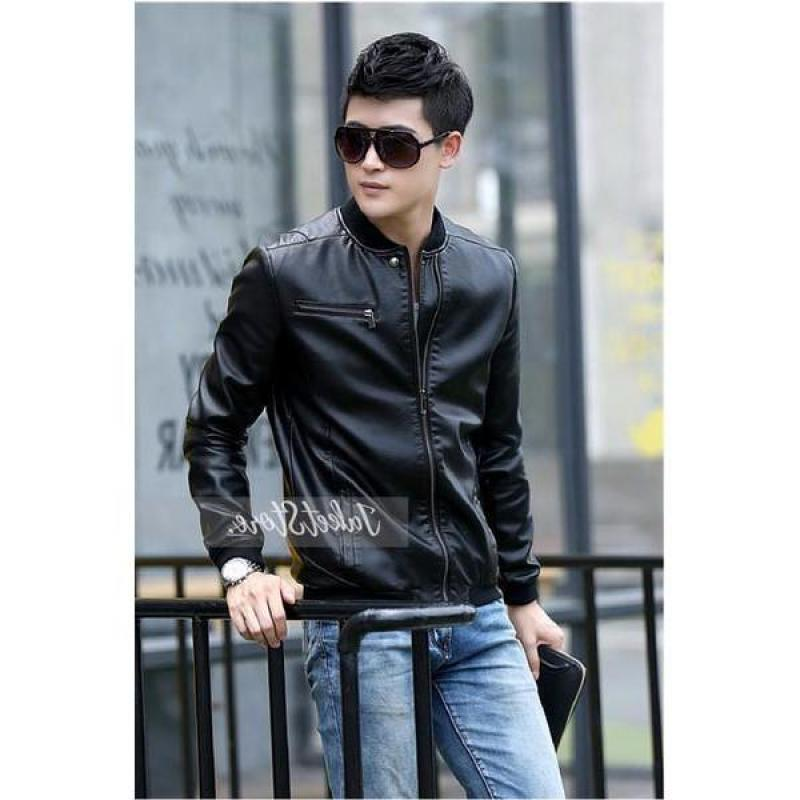jacket: (180, 203, 545, 623)
trousers: (298, 603, 564, 800)
